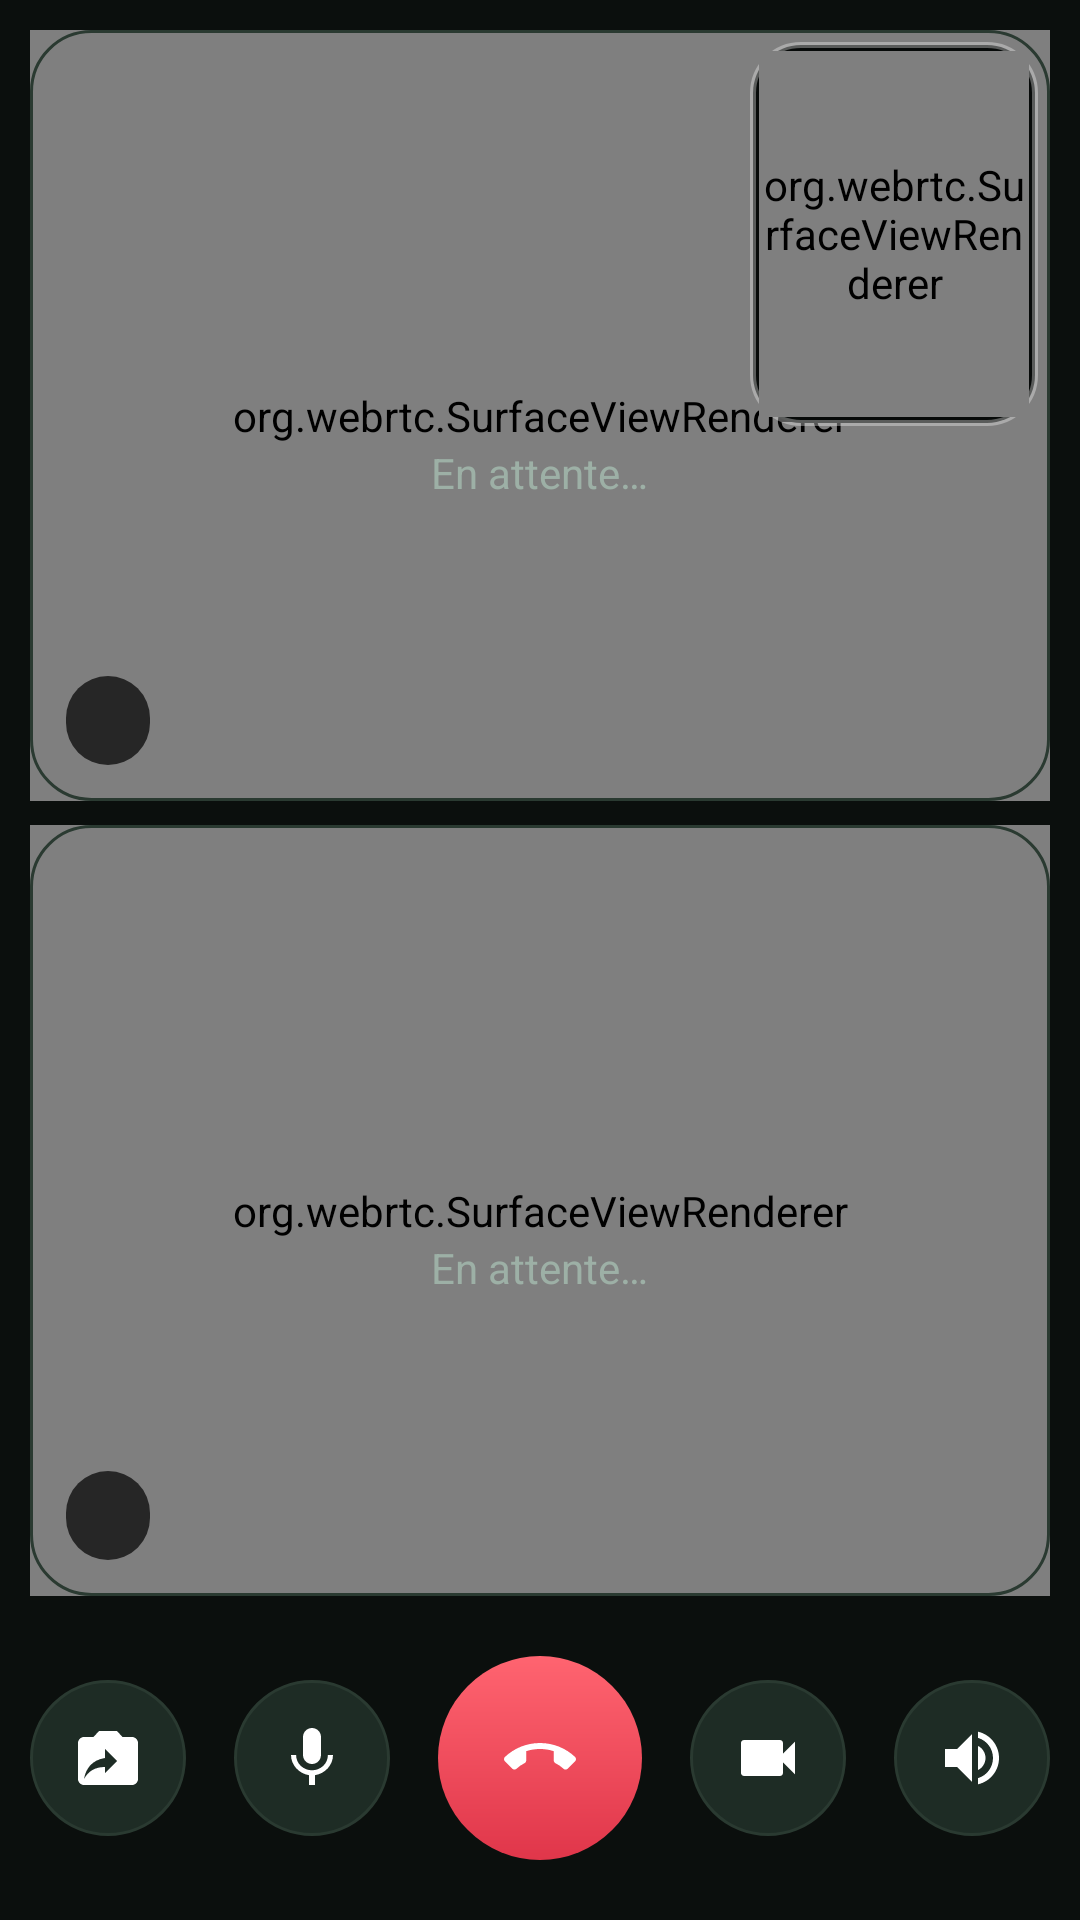

Icons on this 1080x1920 Android screen, each with the point to tap as (x=x, y=y):
Caméra: (x=768, y=1758)
Haut-parleur: (x=972, y=1758)
Micro: (x=312, y=1758)
Raccrocher: (x=540, y=1758)
Retourner caméra: (x=108, y=1758)
